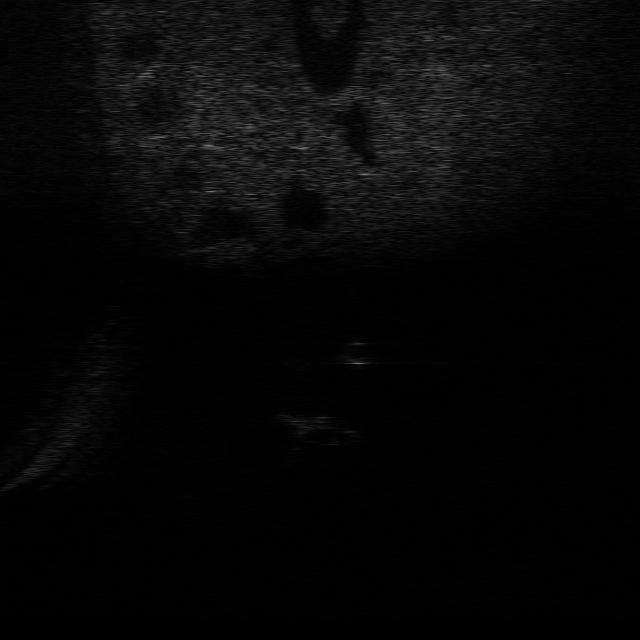ball: (332, 338, 382, 368)
square cage: (268, 408, 344, 440)
tyre: (304, 422, 362, 450)
